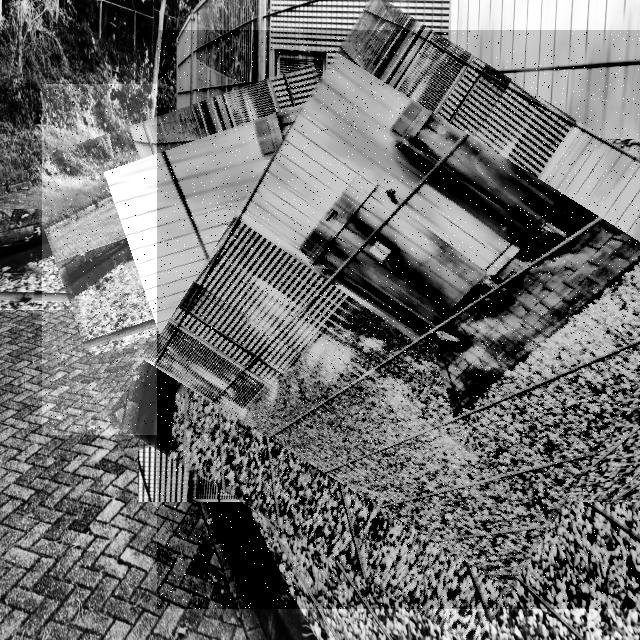fences: (157, 30, 640, 609), (42, 84, 393, 435)
